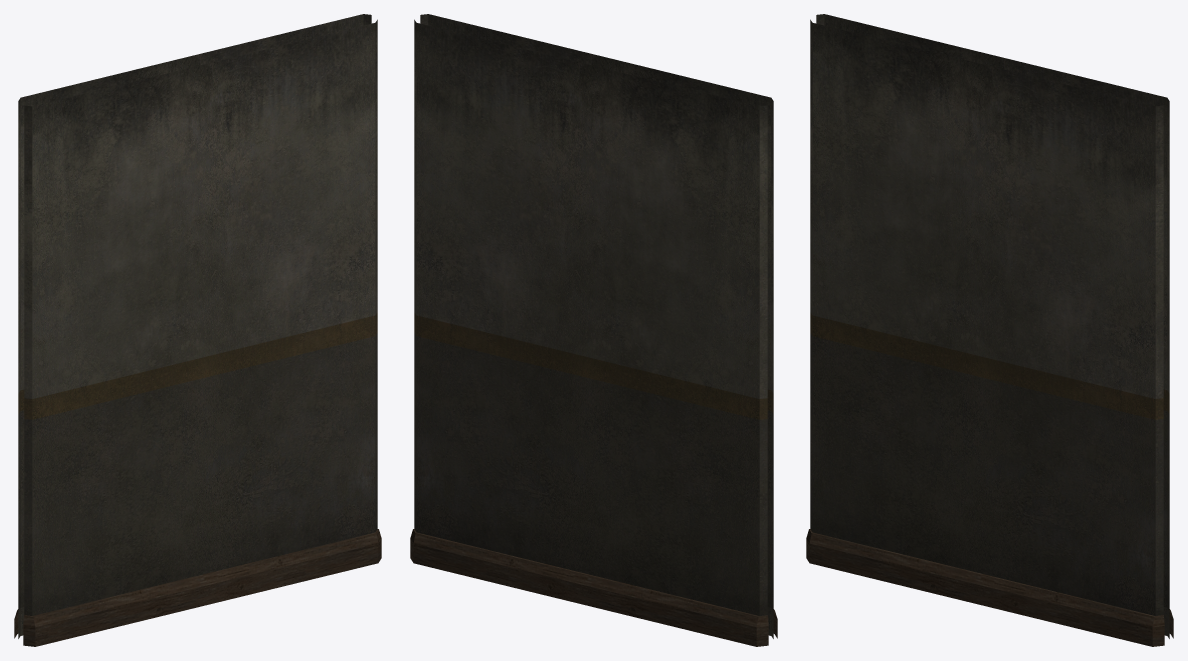
The model's file is wall_1_half.obj.
3 views of the same model, side by side, from view 1: azimuth 30°, elevation 25°; view 2: azimuth 150°, elevation 25°; view 3: azimuth 330°, elevation 25° (orthographic).
Parts seen in each view (by area): view 1: wall_1_half; view 2: wall_1_half; view 3: wall_1_half.
Part boxes in pixels (x1,y1,x2,y2): wall_1_half: (14, 14, 381, 646); wall_1_half: (410, 14, 777, 646); wall_1_half: (806, 14, 1173, 646).
Size of the model in its own units: 2.09 by 3 by 0.18.
